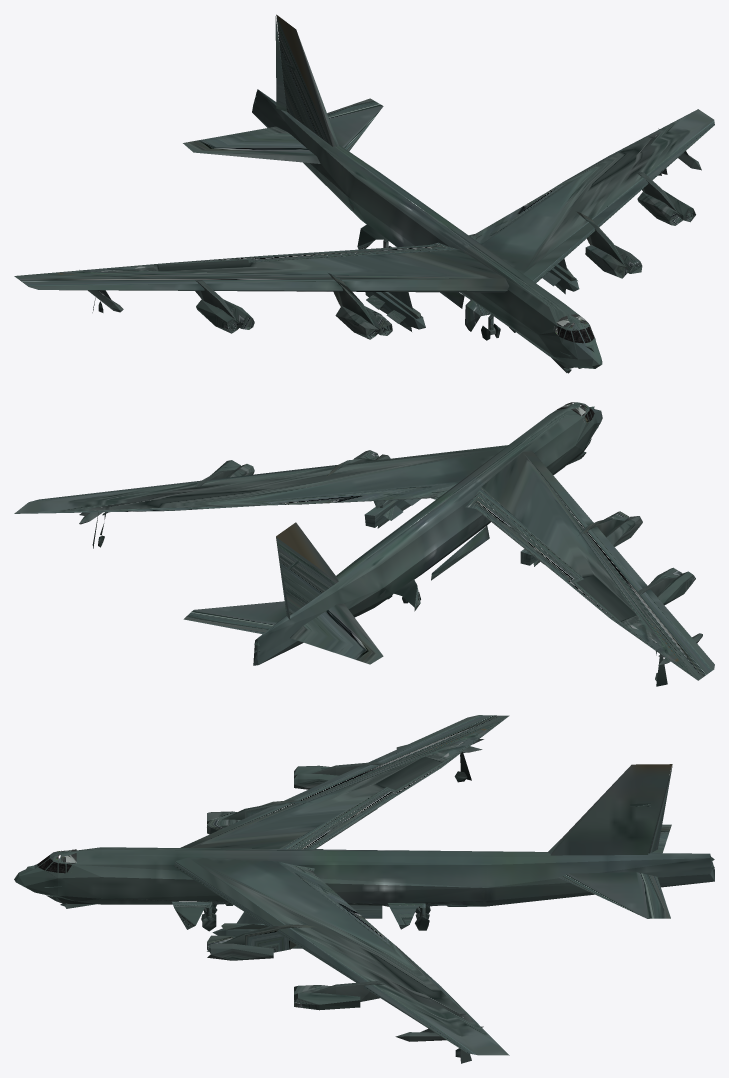
3 views of the same model, one above another, from view 1: azimuth 30°, elevation 25°; view 2: azimuth 150°, elevation 25°; view 3: azimuth 270°, elevation 25° (orthographic).
Parts seen in each view (by area): view 1: Object_12; view 2: Object_12; view 3: Object_12.
Boxes of the visible parts, x1,y1,x2,y2 form: Object_12: (14, 14, 714, 373); Object_12: (14, 402, 714, 686); Object_12: (14, 715, 714, 1063).
Size of the model in its own units: 69.68 by 15.02 by 60.65.
Materials: 4 (4 with a texture image).
